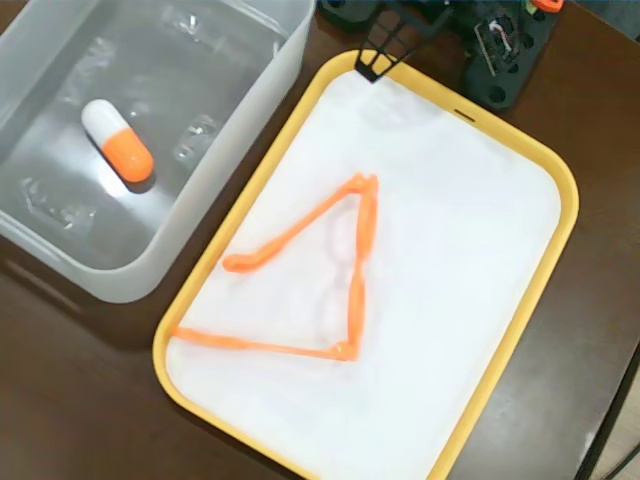pill: (80, 98, 154, 187)
